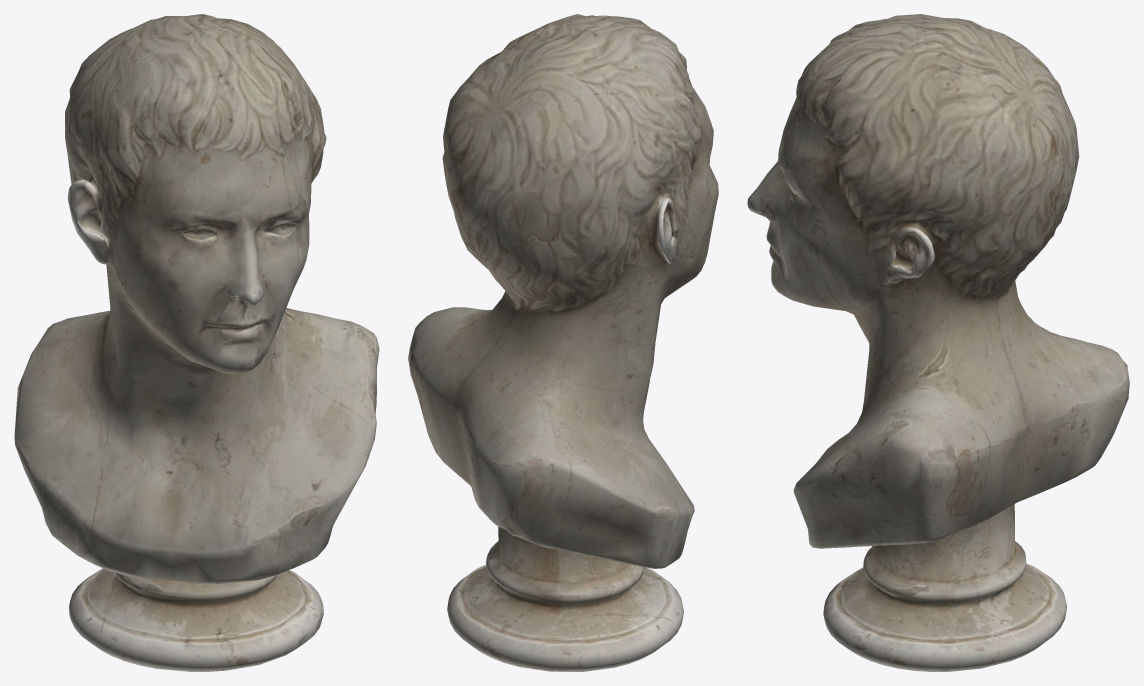
File: marble-bust-01.glb
3 views of the same model, side by side, from view 1: azimuth 30°, elevation 25°; view 2: azimuth 150°, elevation 25°; view 3: azimuth 270°, elevation 25° (orthographic). The views are drawn at different scales.
Parts seen in each view (by area): view 1: marble_bust_01; view 2: marble_bust_01; view 3: marble_bust_01.
Part boxes in pixels (x1,y1,x2,y2): marble_bust_01: (14,14,379,671); marble_bust_01: (408,14,718,671); marble_bust_01: (747,14,1129,671).
Size of the model in its own units: 0.2718 by 0.5149 by 0.2997.
1 material, 1 textured.
